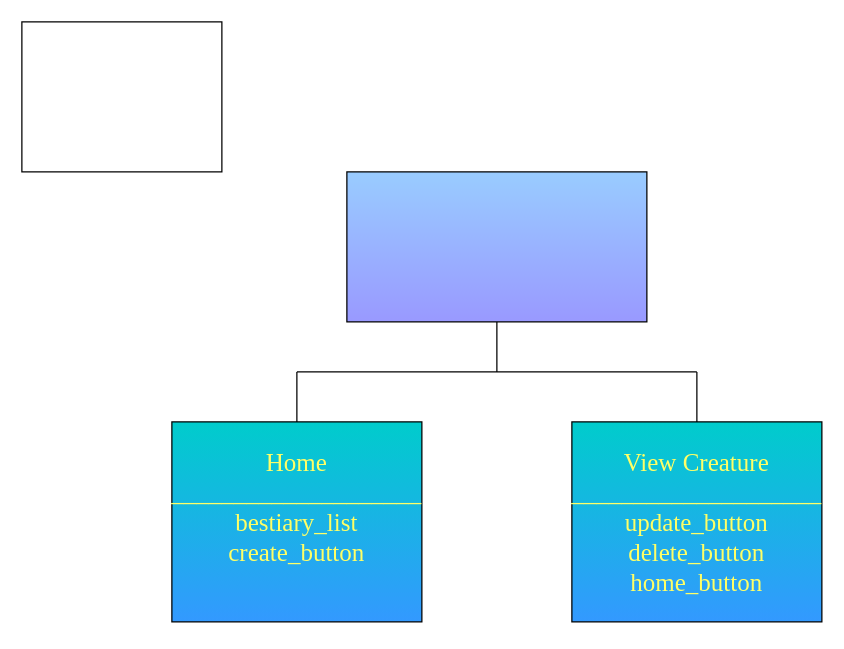
Some shapes in this 844 by 649 pixel diagram are drawn without their labels. The centre of each missing label's shape, as x and y in pixels:
Biblical Bestiary: point (496, 246)
Christa Moncrief Biblical Bestiary CST-391 Professor Bobby Estey: point (121, 96)
